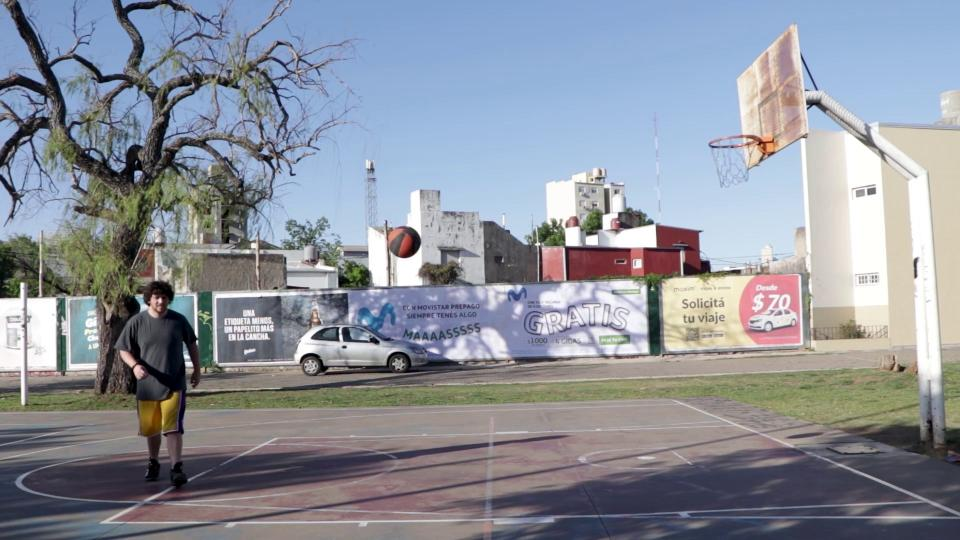hoop: (705, 133, 786, 159)
